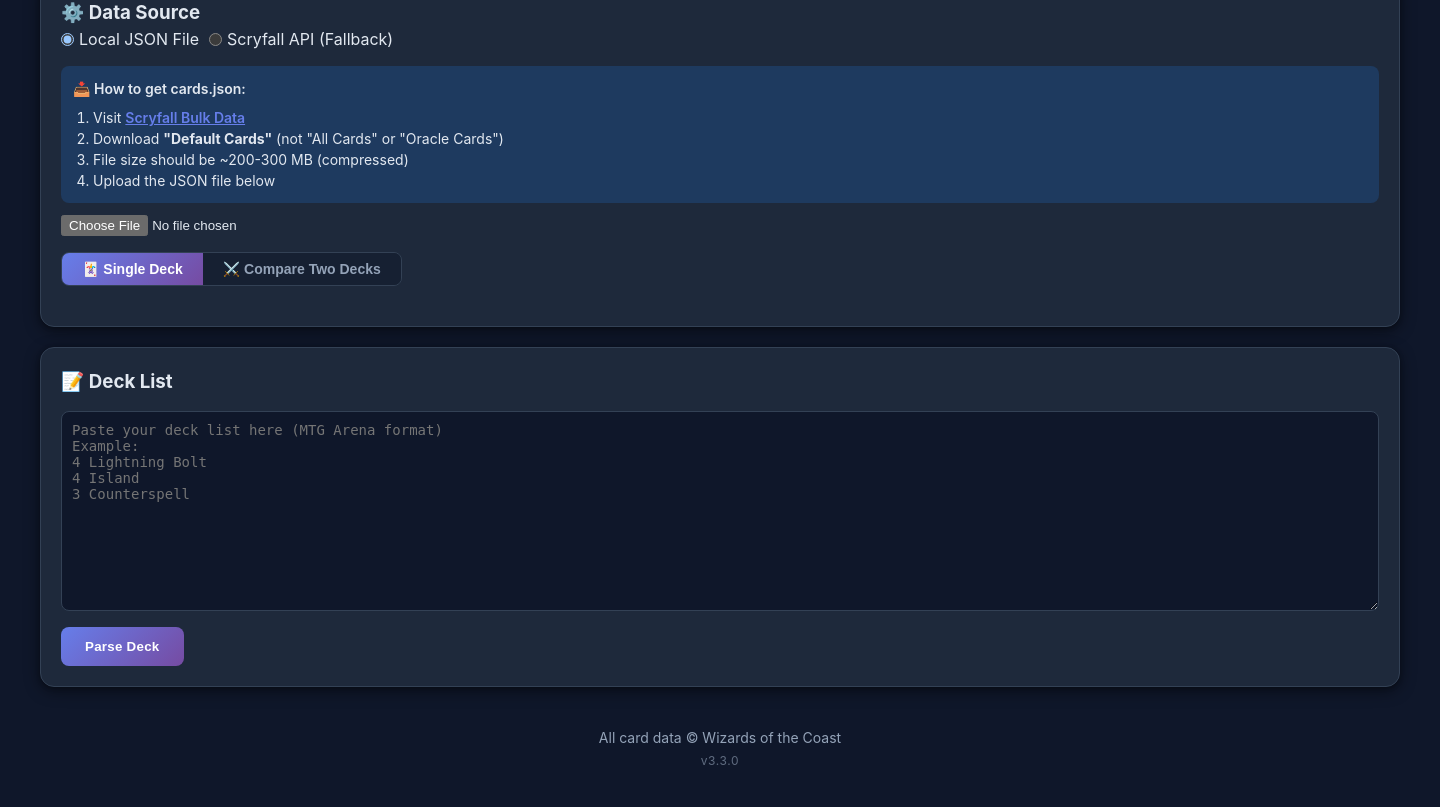
Test: Parse Deck flow › shows deck statistics after a successful parse
(page scrolled)
What coordinates should you click on to do the following:
click the button "Parse Deck"
I would click on:
 (122, 647)
Its box is [61, 627, 184, 666].
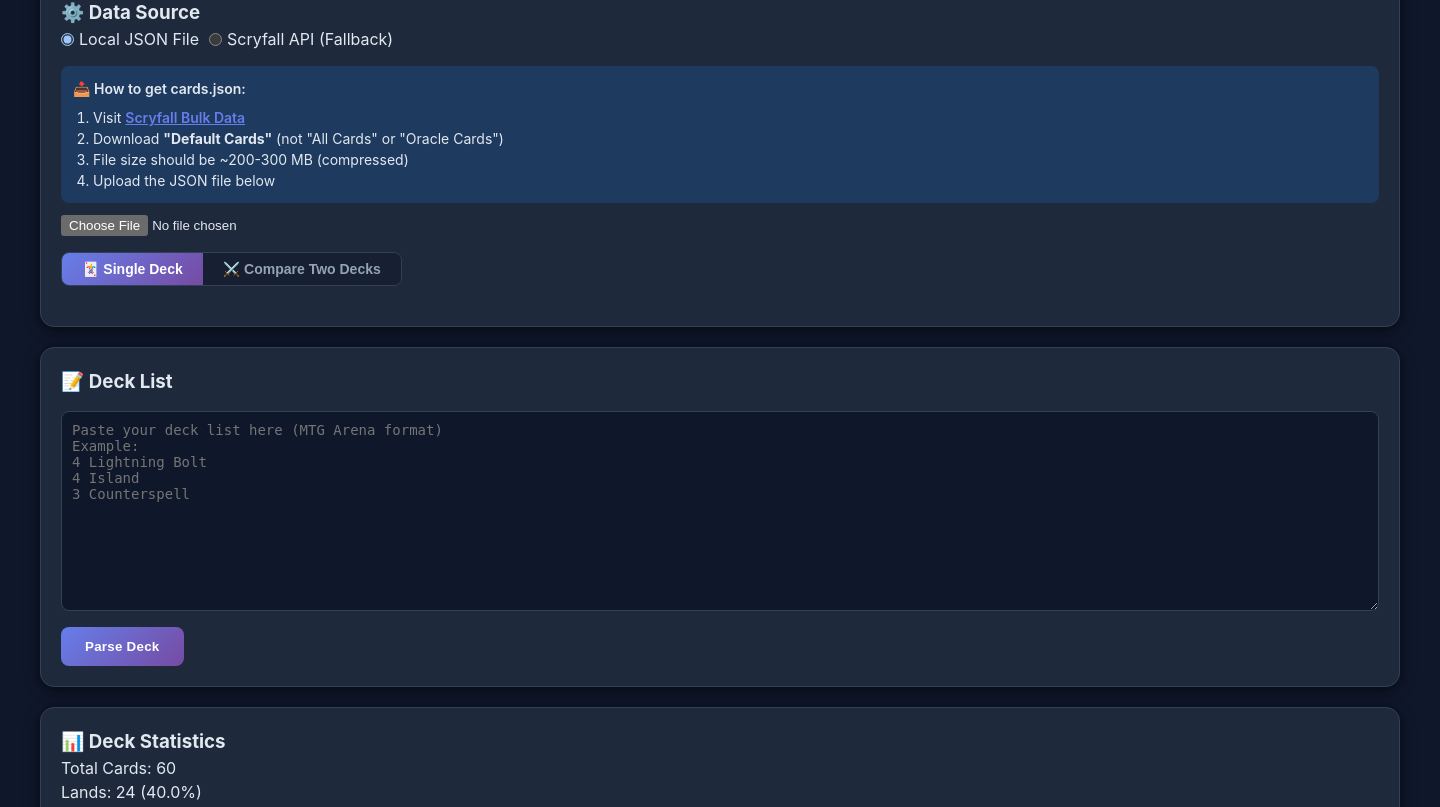
Check: the text "Total Cards: 60" is shown, box [61, 758, 176, 778]
